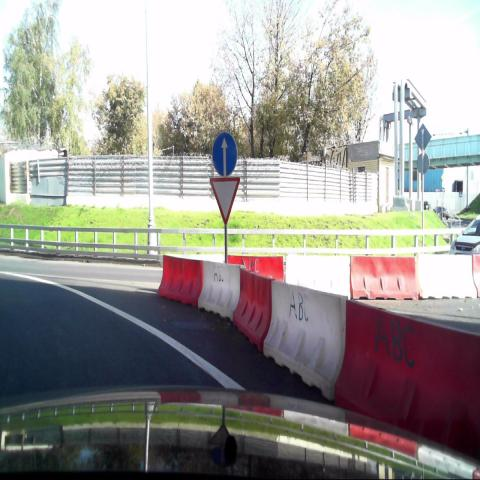4_1_1: (210, 131, 239, 177)
